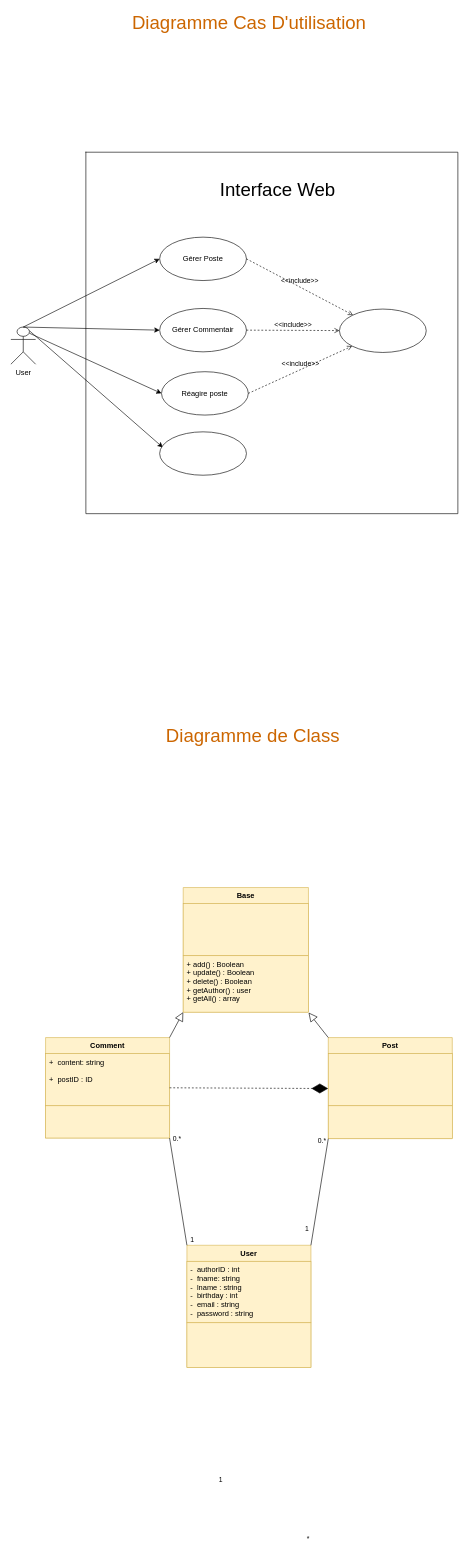
Some shapes in this 469 by 1554 pixel diagram are drawn without their labels. The shapes that lost their labels are listed below. From the top down, each one's centre as x and y in pixels, then its label:
At (382,330): "S'authentifier".
At (202,453): "Créer Compte".
At (245,929): "+authorID : int".
At (390,1079): "+ titre: string + description : string + photo : string + catégorie : string".
At (248,1344): "+ login() : Boolean + register() : Boolean".
